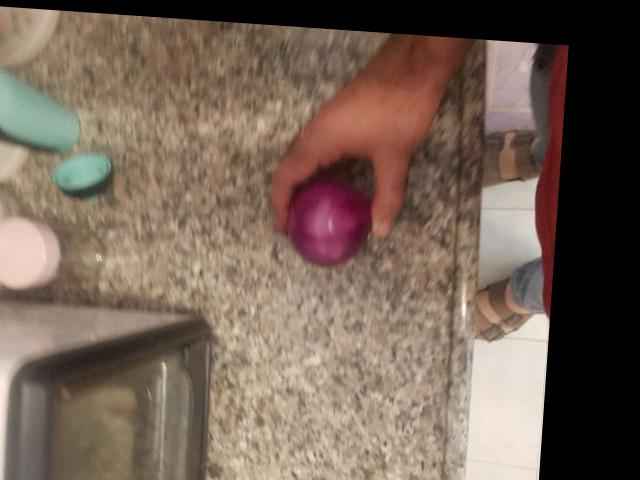onion: (286, 143, 409, 268)
